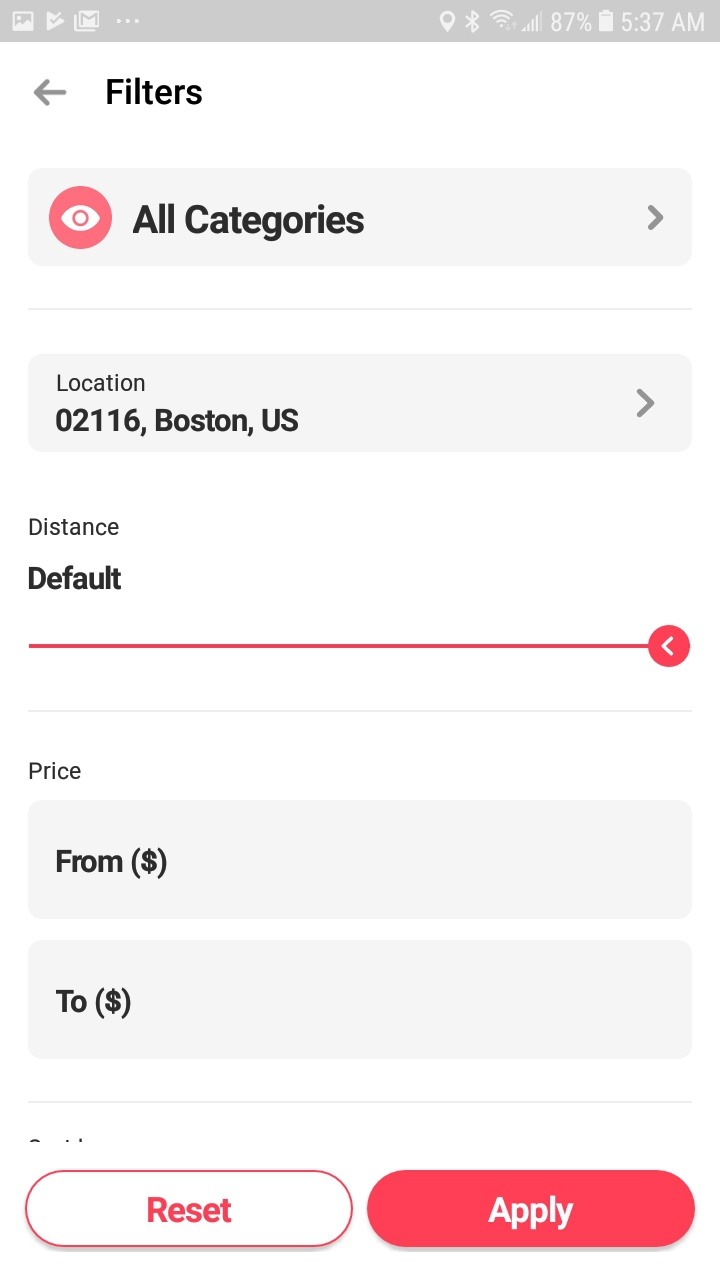Icon: (48, 185, 113, 247), (647, 623, 691, 666), (32, 79, 66, 104), (635, 386, 654, 418), (645, 202, 664, 228)
Text: (133, 202, 363, 241), (54, 406, 297, 437), (56, 845, 167, 879), (105, 76, 201, 105), (26, 564, 121, 593), (54, 985, 131, 1019), (56, 372, 145, 392), (29, 517, 118, 536), (26, 761, 81, 780)
TextButton: (24, 1167, 353, 1248), (367, 1168, 696, 1245)
UpperTaskBar: (1, 1, 720, 43)
